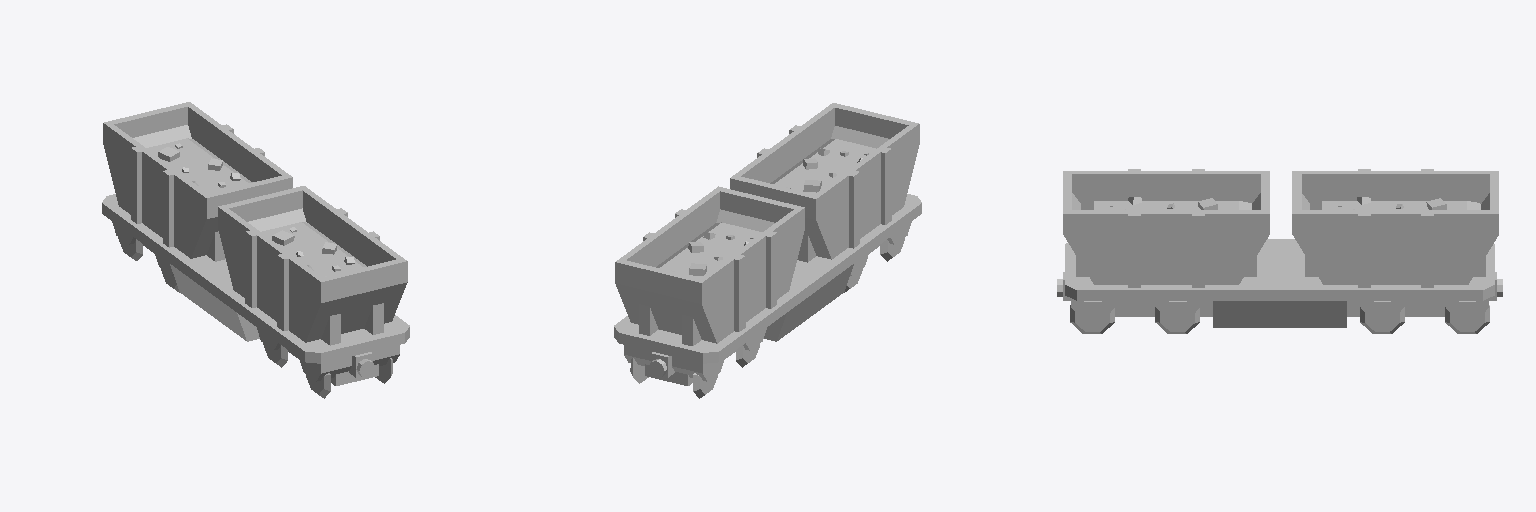
File: SM_Veh_Carriage_Dirt_01.obj
The picture shows the model from 3 angles: view 1: azimuth 30°, elevation 25°; view 2: azimuth 150°, elevation 25°; view 3: azimuth 270°, elevation 25°; orthographic projection.
Parts seen in each view (by area): view 1: SM_Veh_Carriage_Dirt_01:Mesh; view 2: SM_Veh_Carriage_Dirt_01:Mesh; view 3: SM_Veh_Carriage_Dirt_01:Mesh.
Boxes of the visible parts, x1,y1,x2,y2 form: SM_Veh_Carriage_Dirt_01:Mesh: [102, 102, 409, 398]; SM_Veh_Carriage_Dirt_01:Mesh: [614, 103, 921, 398]; SM_Veh_Carriage_Dirt_01:Mesh: [1057, 169, 1502, 333].
Size of the model in its own units: 4.5 by 5.18 by 16.45.